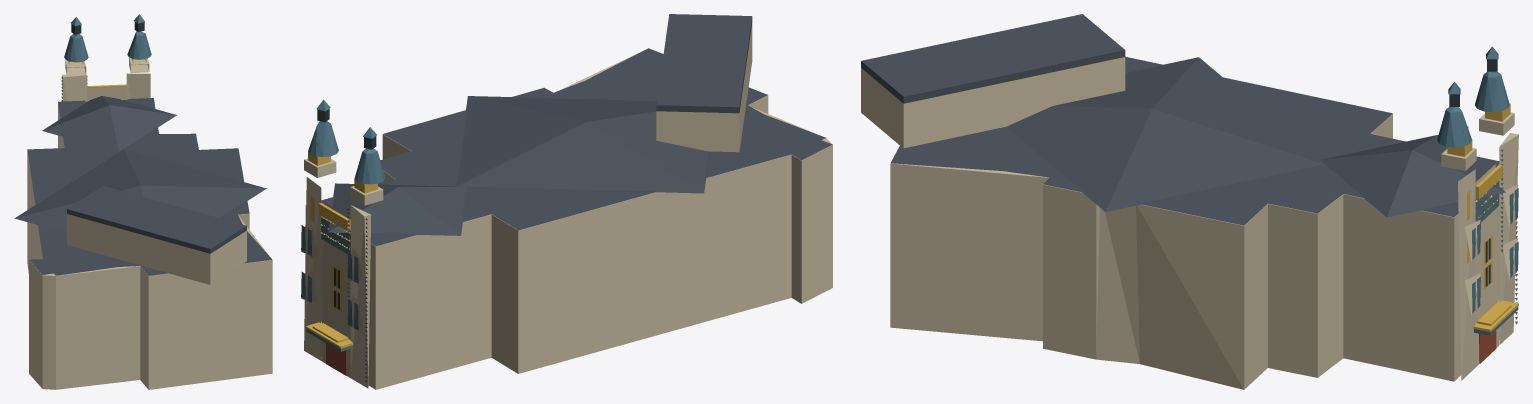
The model's file is tuschinski.lod1.glb.
3 renders of one model, left to right at view 1: azimuth 30°, elevation 25°; view 2: azimuth 150°, elevation 25°; view 3: azimuth 270°, elevation 25°, orthographic. The views are drawn at different scales.
Parts seen in each view (by area): view 1: tuschinski; view 2: tuschinski; view 3: tuschinski.
Part boxes in pixels (x1,y1,x2,y2): tuschinski: (14, 14, 272, 389); tuschinski: (301, 14, 832, 389); tuschinski: (861, 14, 1518, 389).
Bounding box in the file's own units: 48.38 × 33.6 × 69.03.
